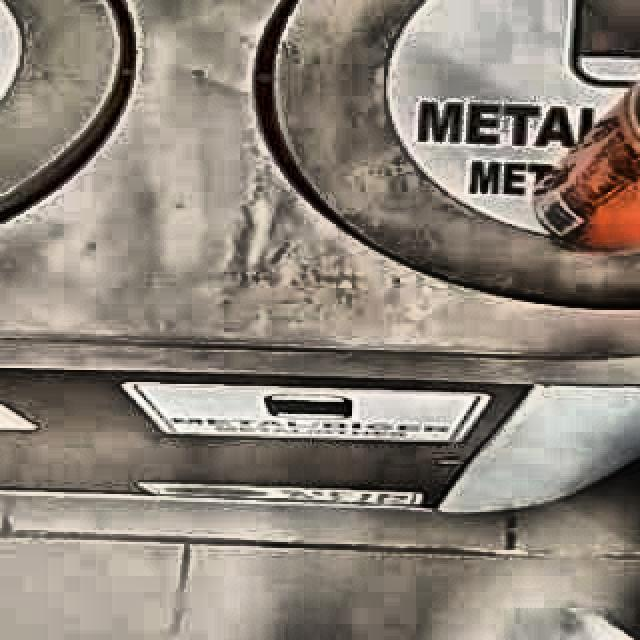metal: (533, 87, 640, 252)
